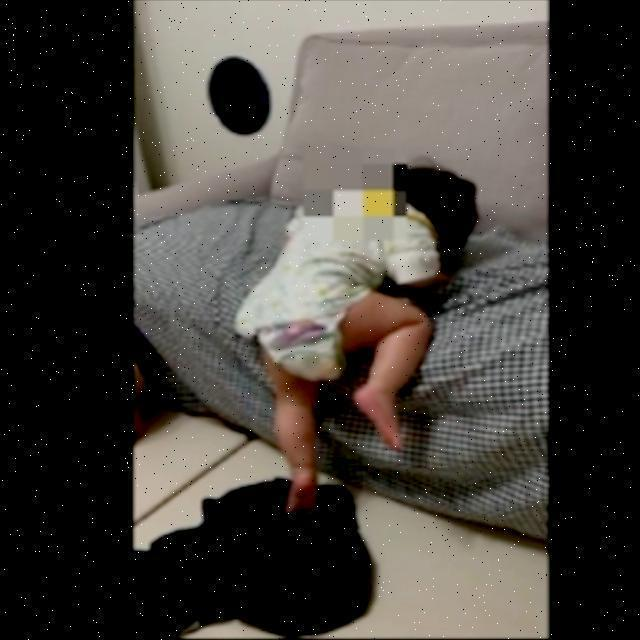child: (247, 153, 477, 537)
